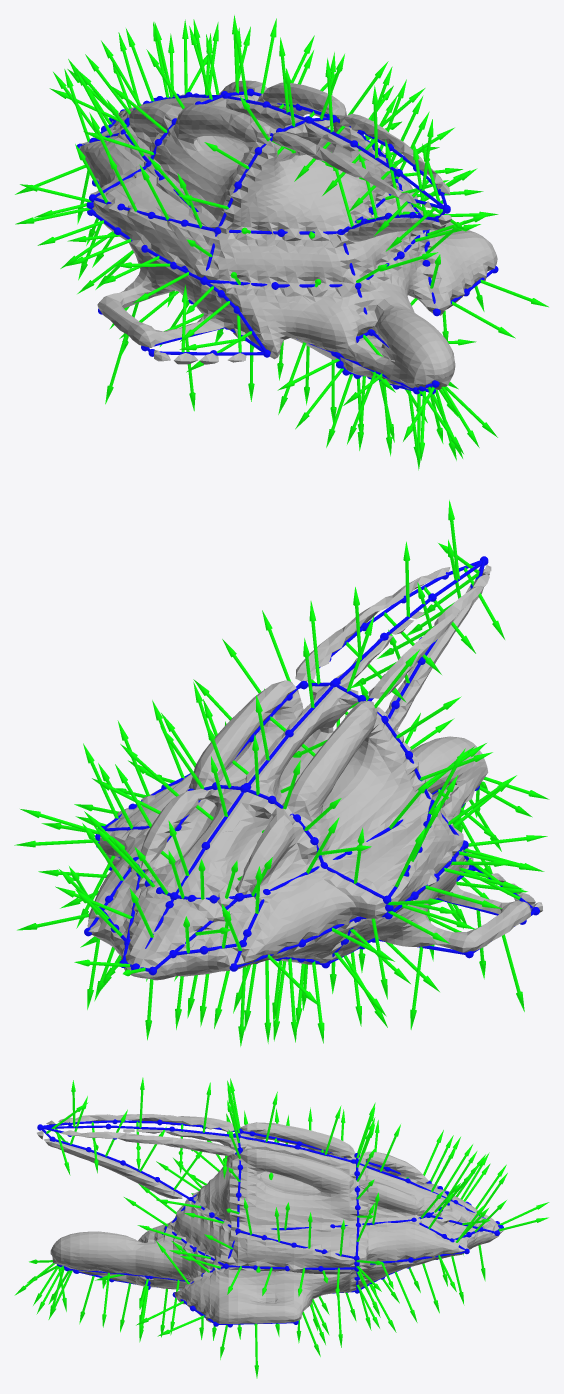
Rendered from ils_spacecraft_78.gltf.
3 renders of one model, top to bottom at view 1: azimuth 30°, elevation 25°; view 2: azimuth 150°, elevation 25°; view 3: azimuth 270°, elevation 25°, orthographic. The views are drawn at different scales.
Bounding box in the file's own units: 0.5834 × 0.5137 × 0.9412.
